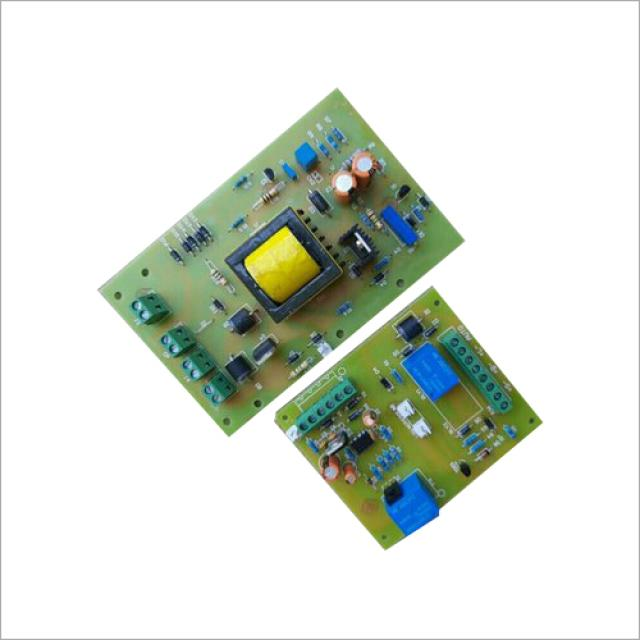pcb: (96, 86, 465, 436), (272, 284, 542, 550), (223, 205, 343, 322), (435, 324, 513, 415), (380, 468, 440, 536), (400, 340, 460, 402)
